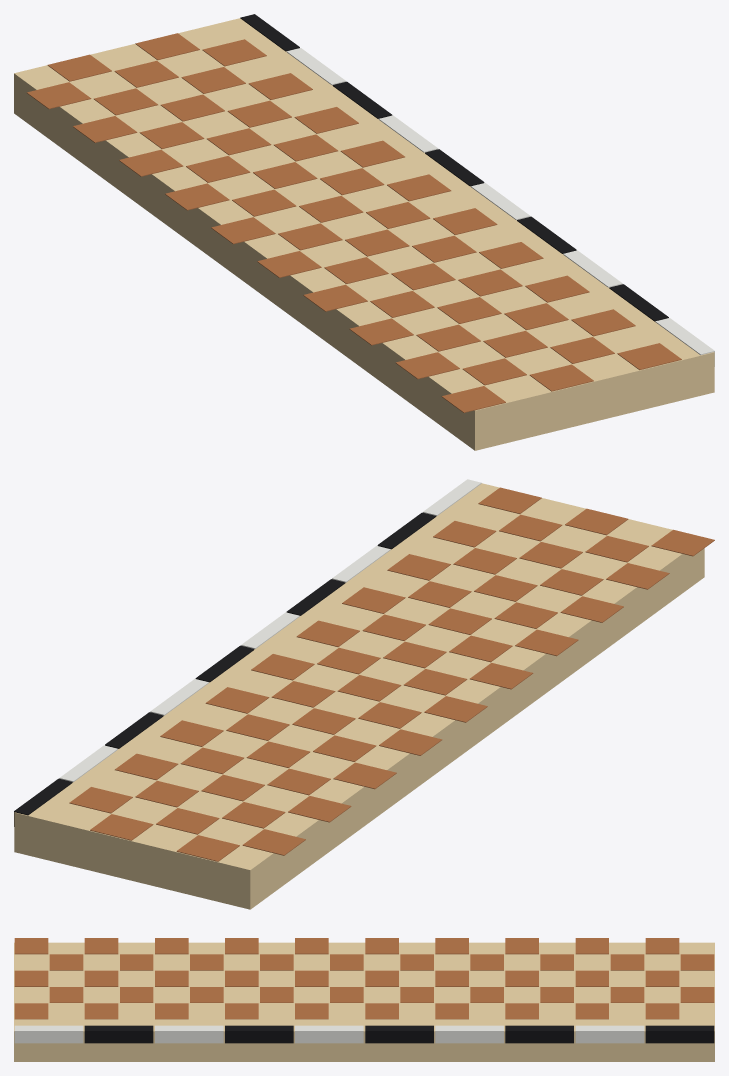
File: env_bf_curb_edge.fbx
3 renders of one model, top to bottom at view 1: azimuth 30°, elevation 25°; view 2: azimuth 150°, elevation 25°; view 3: azimuth 270°, elevation 25°, orthographic. The views are drawn at different scales.
Parts seen in each view (by area): view 1: env_bf_curb_edge_geo; view 2: env_bf_curb_edge_geo; view 3: env_bf_curb_edge_geo.
Part boxes in pixels (x1,y1,x2,y2): env_bf_curb_edge_geo: (14,14,714,450); env_bf_curb_edge_geo: (14,479,714,909); env_bf_curb_edge_geo: (14,938,714,1061).
Size of the model in its own units: 3.14 by 0.491 by 10.
